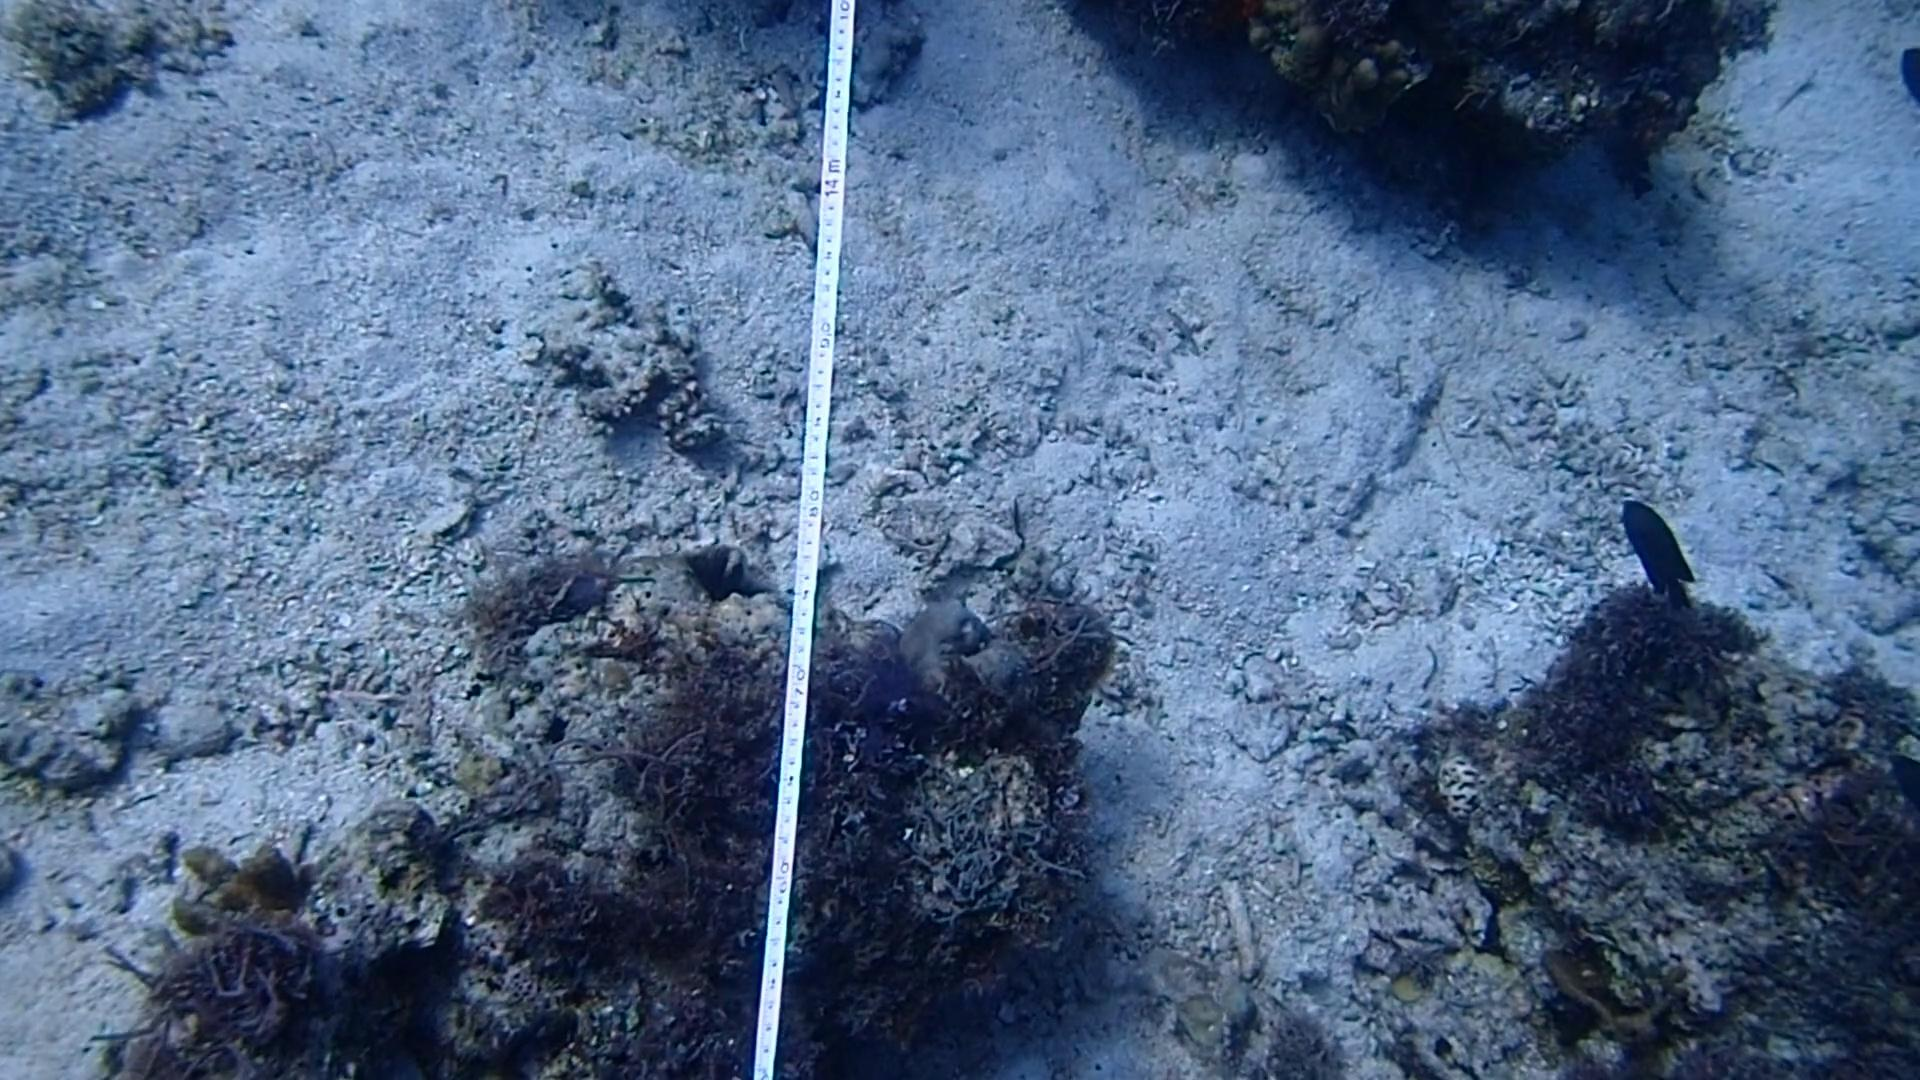Dark Fish: (1605, 483, 1695, 612), (1589, 105, 1669, 200)
